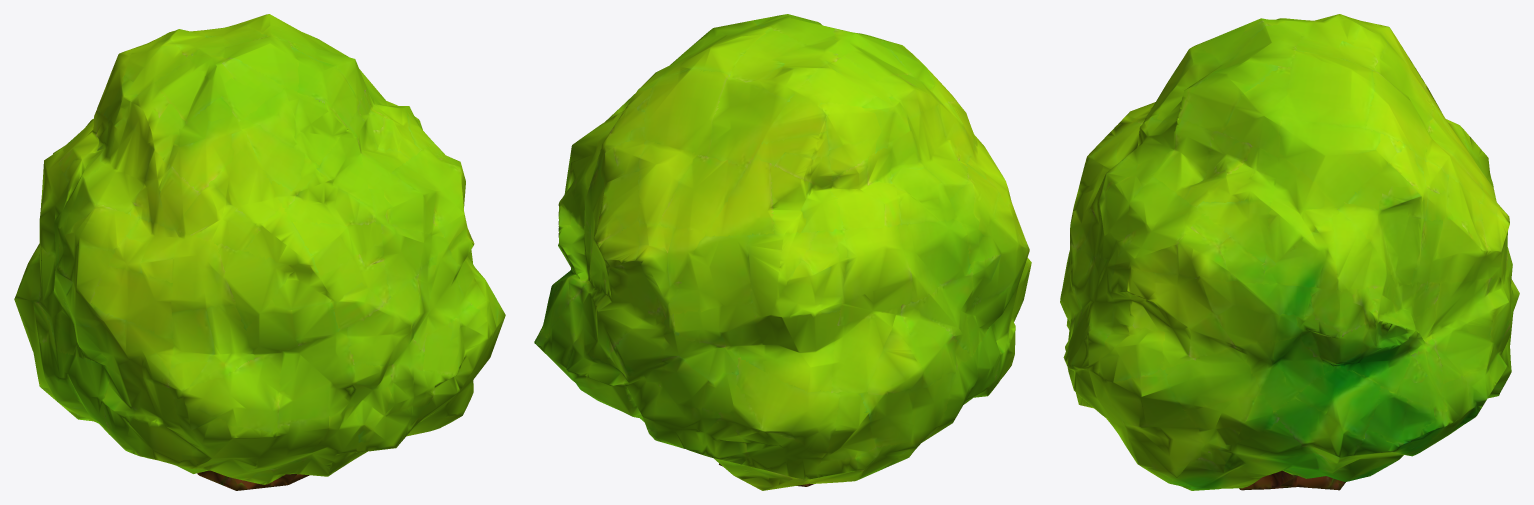
Rendered from bush.glb.
The picture shows the model from 3 angles, left to right: view 1: azimuth 30°, elevation 25°; view 2: azimuth 150°, elevation 25°; view 3: azimuth 270°, elevation 25°; orthographic projection.
Size of the model in its own units: 1.89 by 1.9 by 1.84.
Materials: 1 (1 with a texture image).
